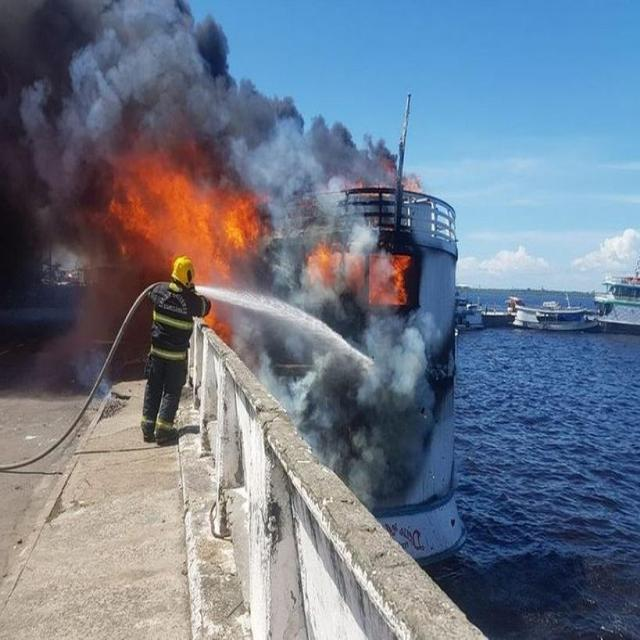Fire: (102, 138, 268, 286), (370, 254, 414, 305), (306, 241, 336, 280)
